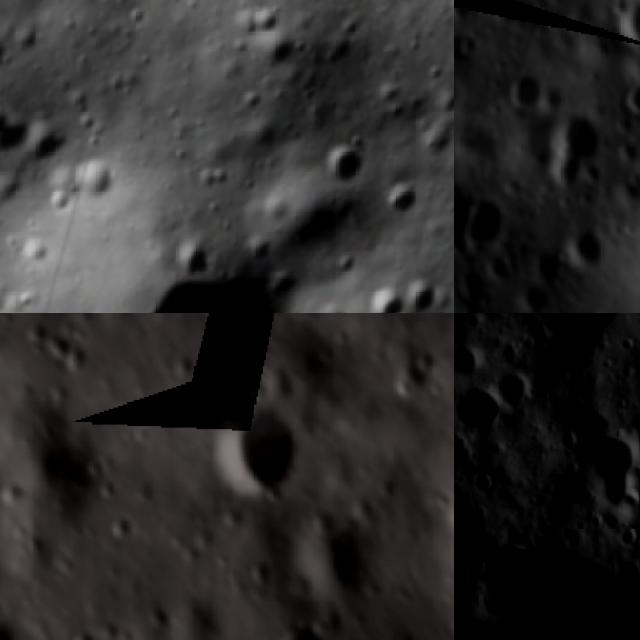crater: (112, 231, 313, 313), (202, 387, 302, 499), (293, 514, 382, 610), (70, 150, 130, 216), (554, 109, 612, 174), (315, 127, 371, 191), (468, 192, 519, 261), (376, 163, 426, 228), (454, 379, 504, 442), (165, 229, 218, 285), (559, 226, 610, 274), (488, 365, 543, 409), (0, 92, 36, 158), (404, 269, 451, 313), (508, 74, 548, 118), (611, 0, 640, 55), (363, 281, 412, 313), (454, 343, 488, 386), (279, 616, 338, 640), (513, 283, 555, 313), (0, 22, 18, 85), (620, 85, 640, 125), (454, 73, 465, 135)
